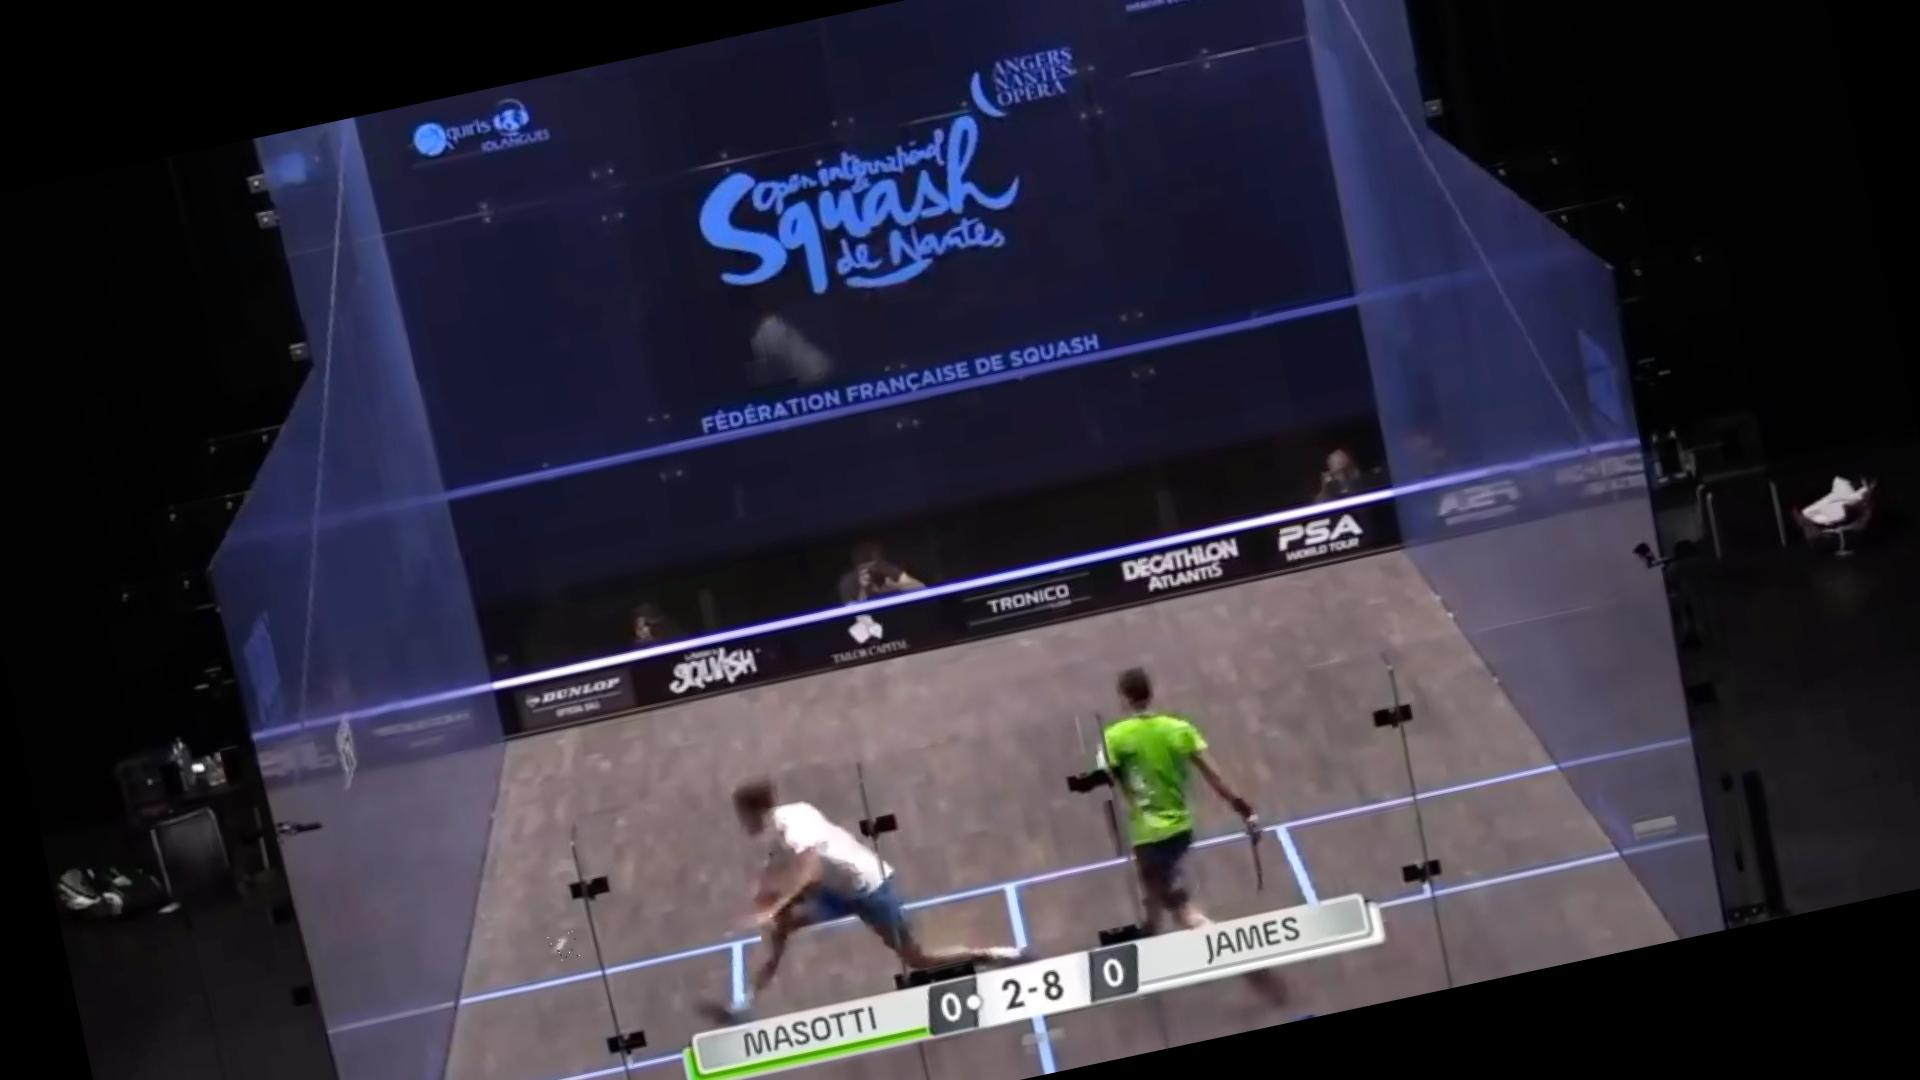Squash-Ball: (546, 928, 580, 963)
